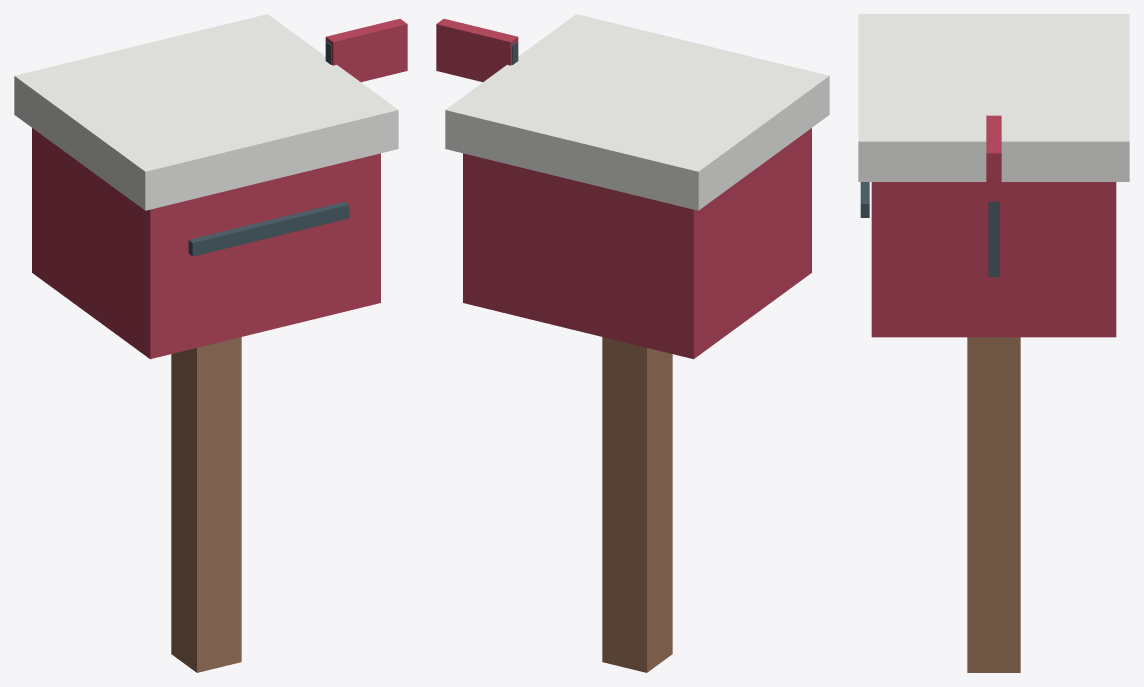
The model's file is postbox.glb.
3 views of the same model, side by side, from view 1: azimuth 30°, elevation 25°; view 2: azimuth 150°, elevation 25°; view 3: azimuth 270°, elevation 25° (orthographic). The views are drawn at different scales.
Visible parts, largest first — view 1: snowy-postbox-red, snowy-postbox-snow, snowy-postbox-wood, snowy-postbox-iron; view 2: snowy-postbox-red, snowy-postbox-snow, snowy-postbox-wood; view 3: snowy-postbox-snow, snowy-postbox-red, snowy-postbox-wood, snowy-postbox-iron.
Part boxes in pixels (x1=…): snowy-postbox-red: x1=32, y1=18, x2=407, y2=359; snowy-postbox-snow: x1=14, y1=14, x2=398, y2=210; snowy-postbox-wood: x1=171, y1=337, x2=241, y2=672; snowy-postbox-iron: x1=188, y1=41, x2=349, y2=256; snowy-postbox-red: x1=436, y1=18, x2=811, y2=359; snowy-postbox-snow: x1=445, y1=14, x2=829, y2=210; snowy-postbox-wood: x1=602, y1=337, x2=672, y2=672; snowy-postbox-snow: x1=858, y1=14, x2=1129, y2=181; snowy-postbox-red: x1=871, y1=115, x2=1116, y2=337; snowy-postbox-wood: x1=967, y1=337, x2=1020, y2=672; snowy-postbox-iron: x1=860, y1=182, x2=999, y2=276.
Bounding box in the file's own units: 0.87 × 1.51 × 0.61.
